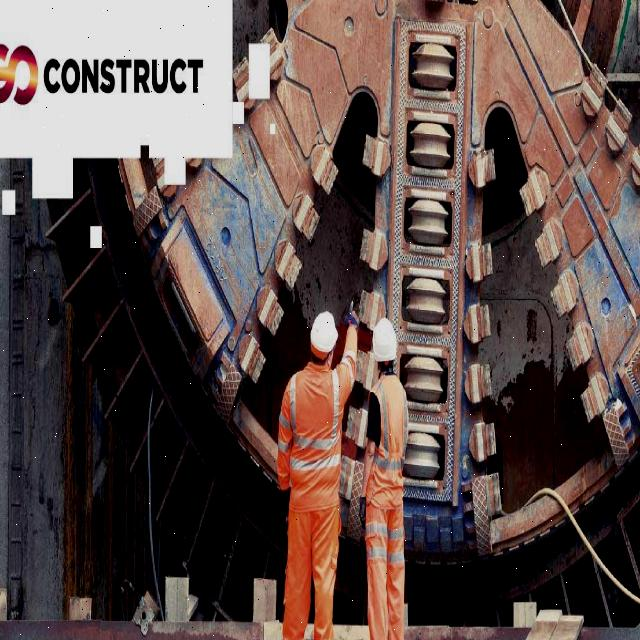Hardhat: (310, 311, 337, 357), (373, 318, 397, 363)
No Overall Suit: (366, 376, 408, 640)
Overall Suit: (278, 326, 358, 640)
